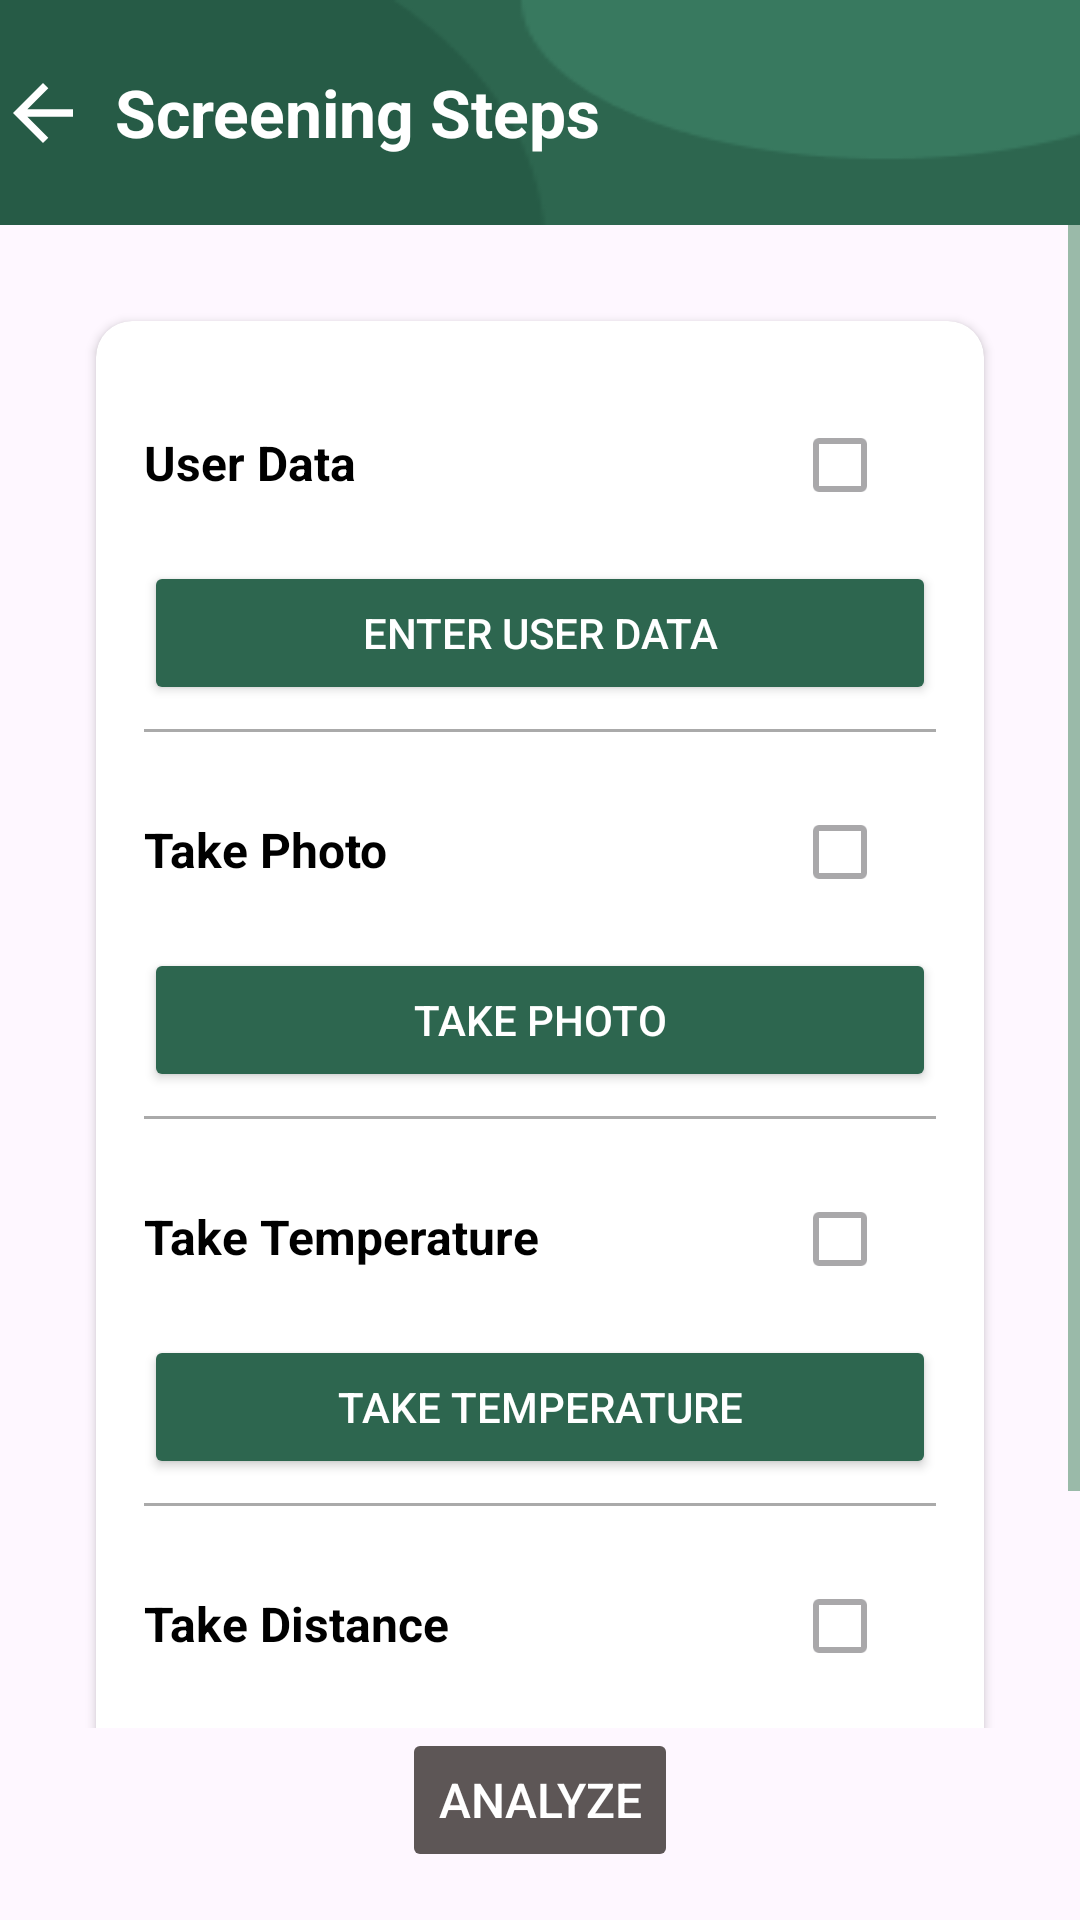

Where to tap for icons on this 1080px x 1920px app screen, as (x,y):
Back: (43,113)
